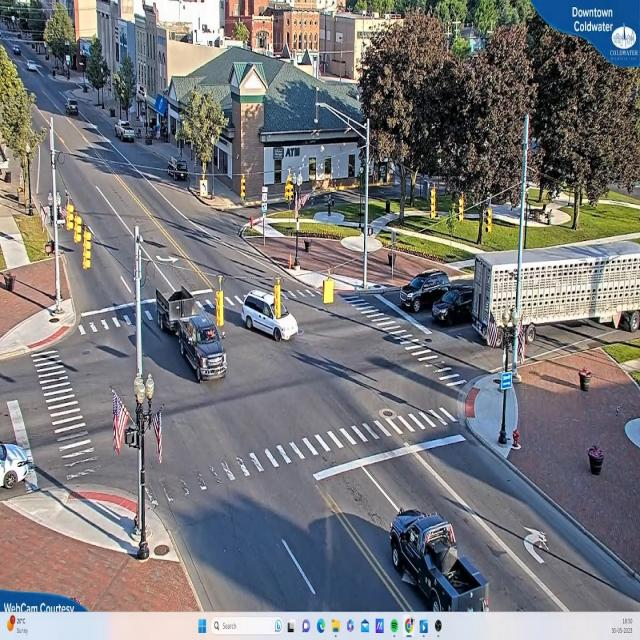car: (390, 512, 487, 609), (177, 313, 228, 382), (239, 287, 301, 342), (401, 271, 453, 314), (0, 444, 39, 492), (431, 286, 473, 327), (117, 122, 137, 145)
